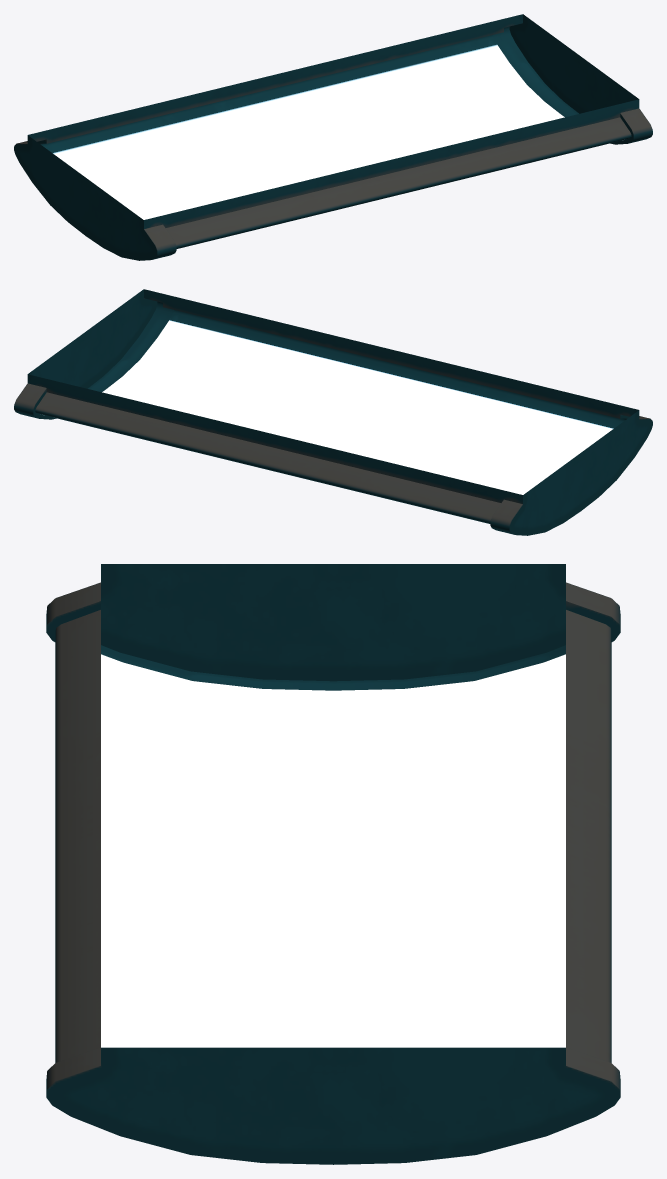
Rendered from CR_CeilingLight15.fbx.
The picture shows the model from 3 angles, top to bottom: view 1: azimuth 30°, elevation 25°; view 2: azimuth 150°, elevation 25°; view 3: azimuth 270°, elevation 25°; orthographic projection. The views are drawn at different scales.
Parts seen in each view (by area): view 1: CeilingLight15; view 2: CeilingLight15; view 3: CeilingLight15.
Boxes of the visible parts, x1,y1,x2,y2 form: CeilingLight15: [14, 14, 652, 260]; CeilingLight15: [14, 289, 652, 535]; CeilingLight15: [46, 564, 620, 1164].
Bounding box in the file's own units: 109 × 12.36 × 54.92.
